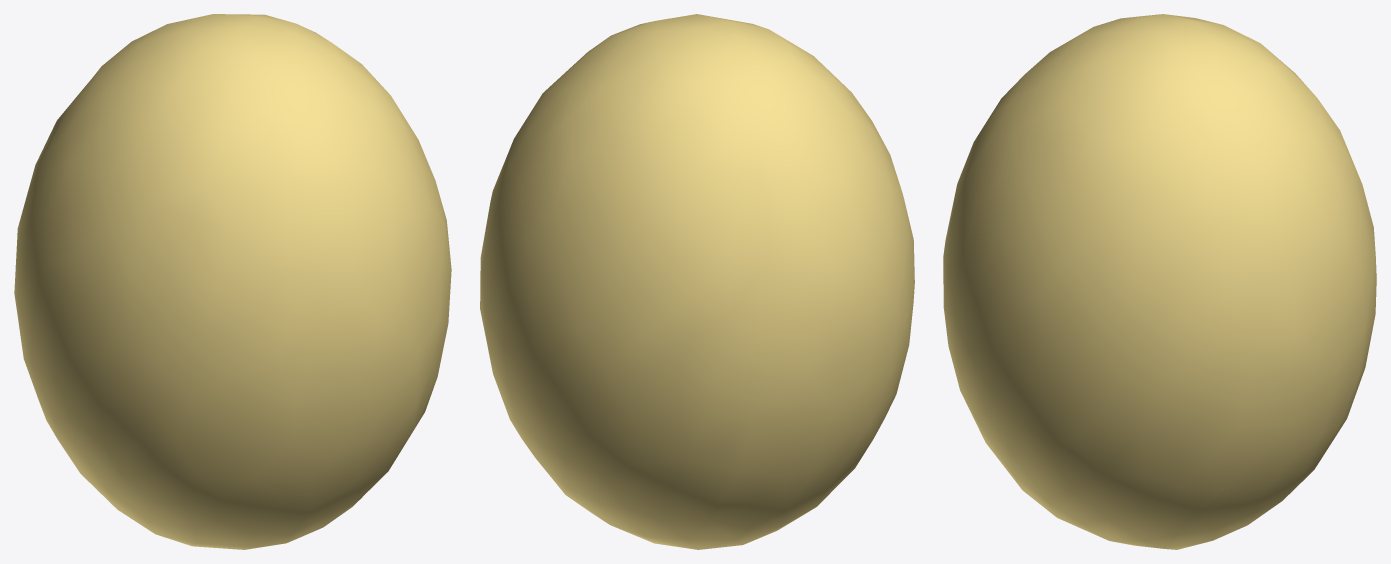
Rendered from fma73686_mm2478.glb.
3 renders of one model, left to right at view 1: azimuth 30°, elevation 25°; view 2: azimuth 150°, elevation 25°; view 3: azimuth 270°, elevation 25°, orthographic.
Parts seen in each view (by area): view 1: FMA73686_MM2478; view 2: FMA73686_MM2478; view 3: FMA73686_MM2478.
Boxes of the visible parts, x1,y1,x2,y2 form: FMA73686_MM2478: (14, 14, 451, 549); FMA73686_MM2478: (480, 14, 914, 549); FMA73686_MM2478: (943, 14, 1376, 549).
Bounding box in the file's own units: 0.00316 × 0.00402 × 0.00315.
